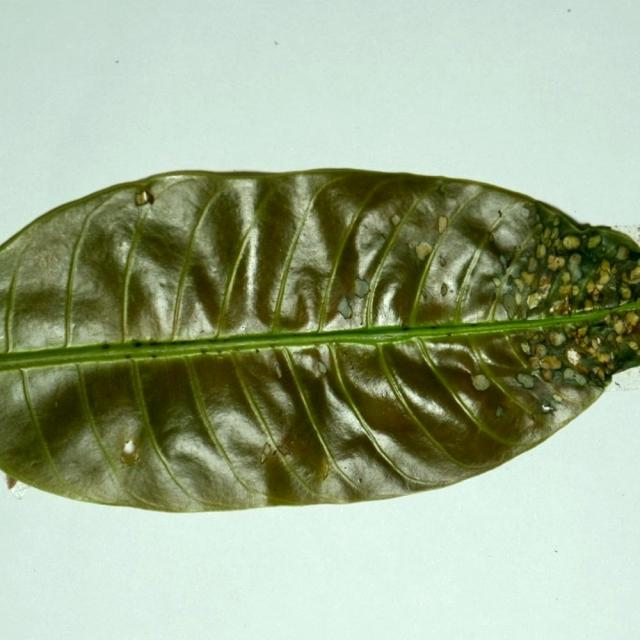Anthracnose: (223, 351, 346, 495), (4, 327, 299, 376), (488, 212, 545, 314), (531, 264, 621, 317), (456, 237, 491, 316), (509, 366, 564, 412), (484, 198, 531, 243), (606, 334, 640, 375), (279, 291, 312, 332), (579, 356, 605, 376), (604, 242, 620, 261), (632, 249, 640, 264)
Mango: (0, 168, 639, 516)
